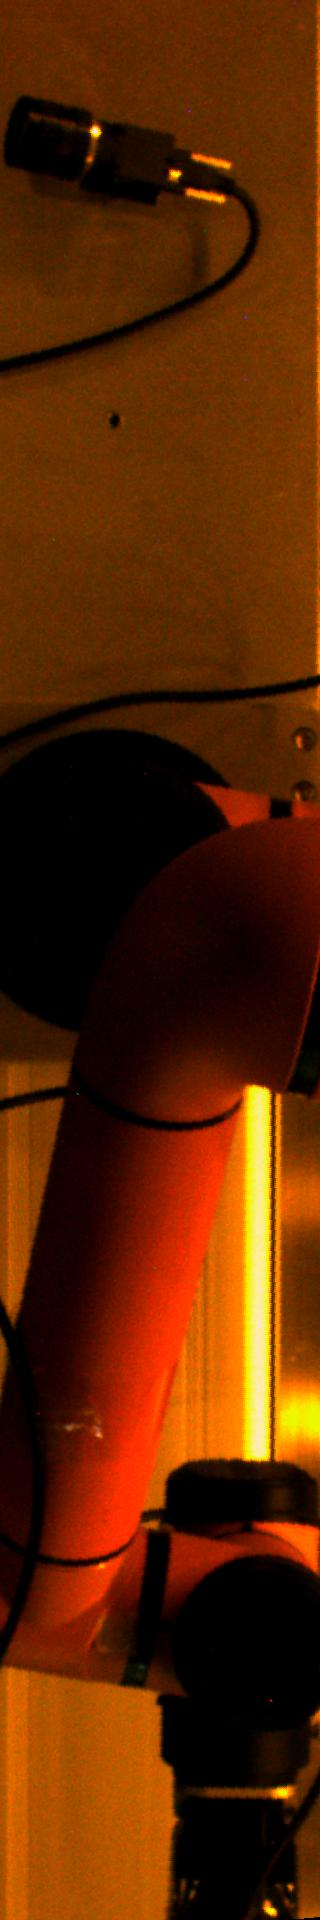keyPoint_2: (99, 407, 129, 437)
